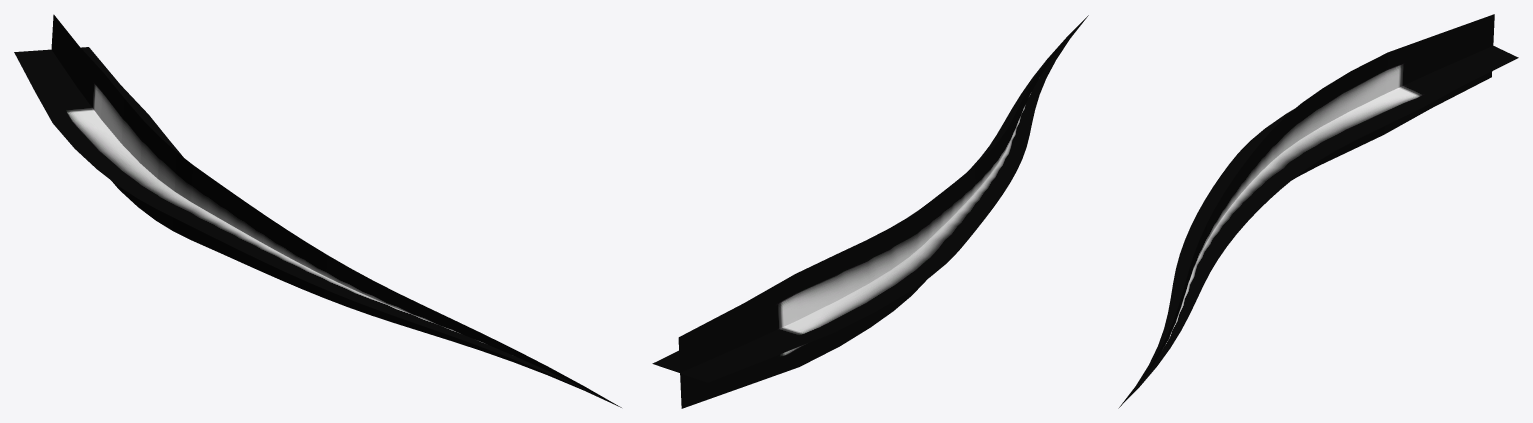
The model's file is TypeZero0.fbx.
3 views of the same model, side by side, from view 1: azimuth 30°, elevation 25°; view 2: azimuth 150°, elevation 25°; view 3: azimuth 330°, elevation 25° (orthographic). The views are drawn at different scales.
Parts seen in each view (by area): view 1: SM_WEP_Eff_D61NJ1_A_00.mo; view 2: SM_WEP_Eff_D61NJ1_A_00.mo; view 3: SM_WEP_Eff_D61NJ1_A_00.mo.
Part boxes in pixels (x1=…): SM_WEP_Eff_D61NJ1_A_00.mo: x1=14, y1=14, x2=621, y2=407; SM_WEP_Eff_D61NJ1_A_00.mo: x1=652, y1=15, x2=1088, y2=408; SM_WEP_Eff_D61NJ1_A_00.mo: x1=1118, y1=14, x2=1518, y2=408.
Size of the model in its own units: 191 by 97.53 by 955.
